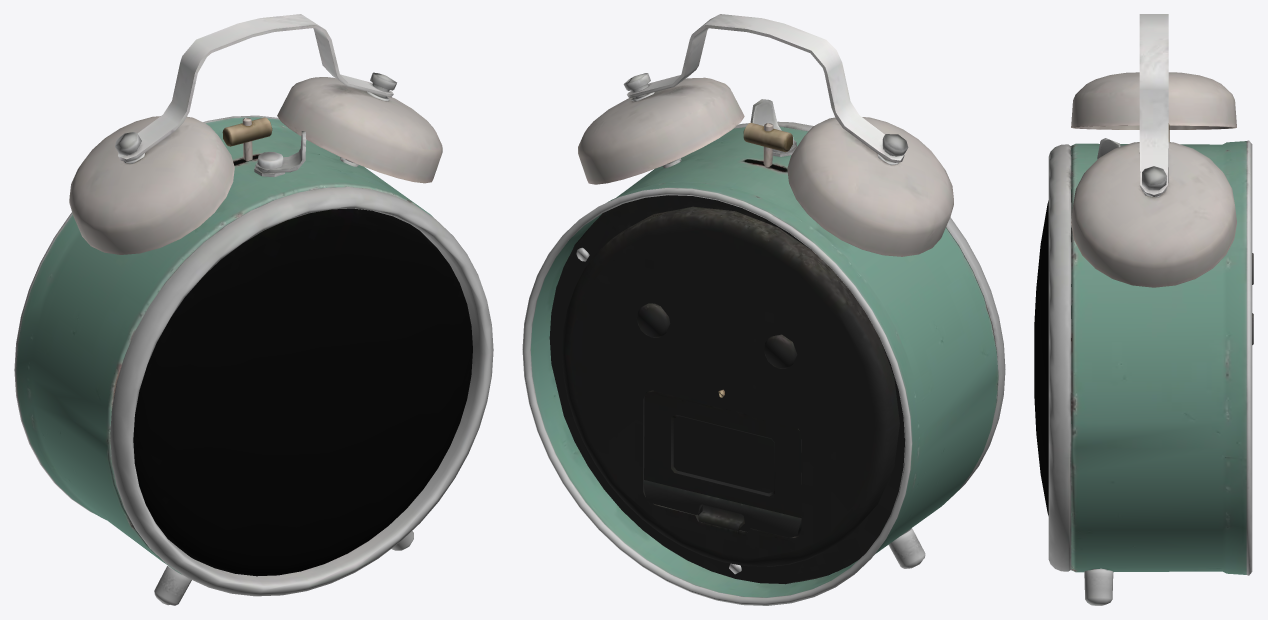
Rendered from alarm_clock_01.glb.
The picture shows the model from 3 angles, left to right: view 1: azimuth 30°, elevation 25°; view 2: azimuth 150°, elevation 25°; view 3: azimuth 270°, elevation 25°; orthographic projection. The views are drawn at different scales.
Visible parts, largest first — view 1: alarm_clock_01; view 2: alarm_clock_01; view 3: alarm_clock_01.
Part boxes in pixels (x1,y1,x2,y2): alarm_clock_01: (14, 14, 493, 605); alarm_clock_01: (522, 14, 1005, 605); alarm_clock_01: (1034, 14, 1253, 605).
Size of the model in its own units: 0.1316 by 0.1741 by 0.0662.
Materials: 2 (2 with a texture image).
